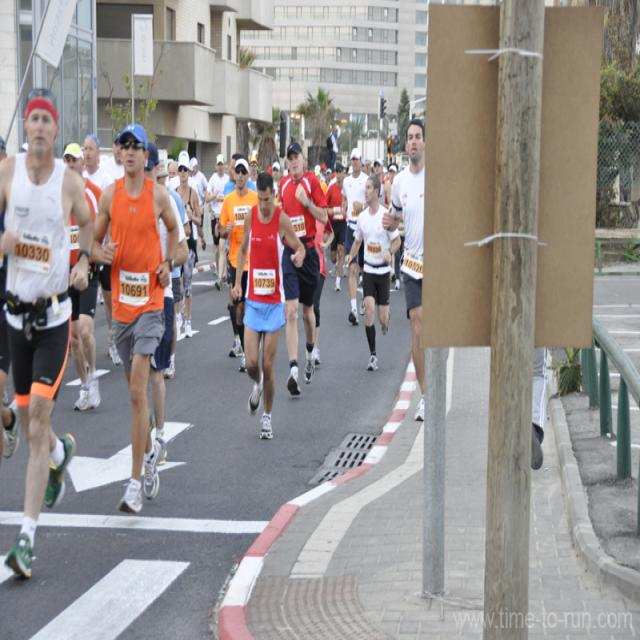Bib: (16, 244, 52, 266), (120, 280, 148, 298), (405, 255, 424, 278), (252, 274, 275, 290), (294, 223, 306, 232)
